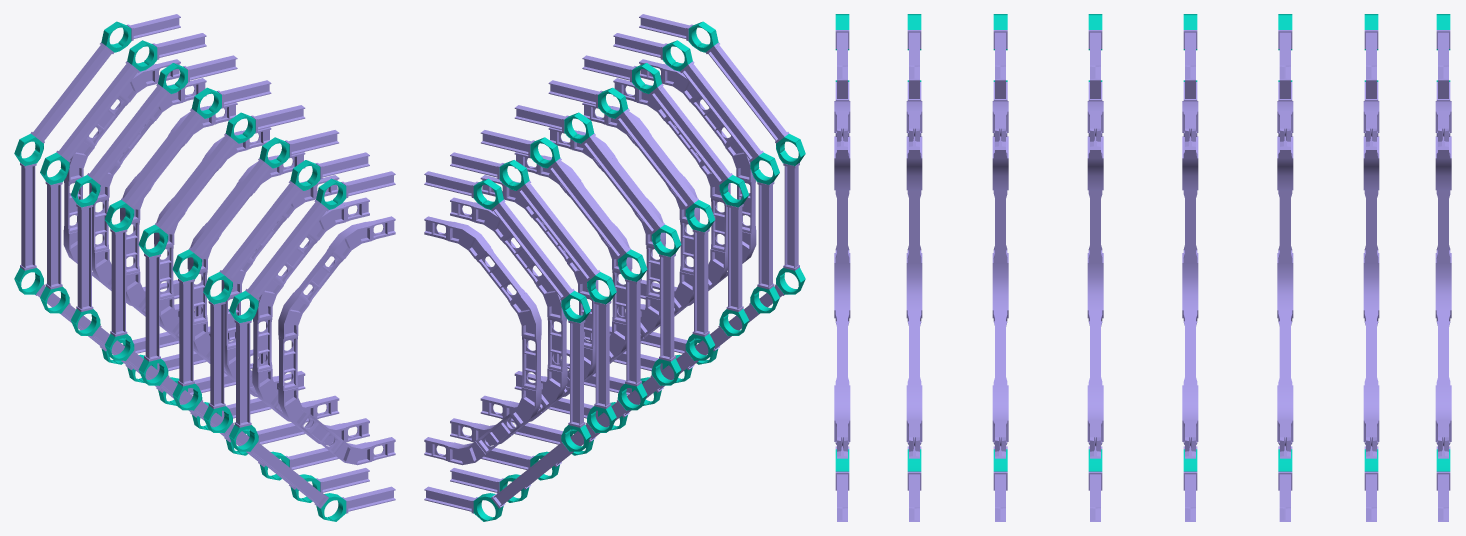
File: support-btwarm-cut-2.glb
3 views of the same model, side by side, from view 1: azimuth 30°, elevation 25°; view 2: azimuth 150°, elevation 25°; view 3: azimuth 270°, elevation 25° (orthographic). The views are drawn at different scales.
Parts seen in each view (by area): view 1: Warm-Structure.003; view 2: Warm-Structure.003; view 3: Warm-Structure.003.
Boxes of the visible parts, <box> form: Warm-Structure.003: <box>14,14,395,521</box>; Warm-Structure.003: <box>424,14,805,521</box>; Warm-Structure.003: <box>834,14,1451,521</box>.
Size of the model in its own units: 9.47 by 18.93 by 22.27.
